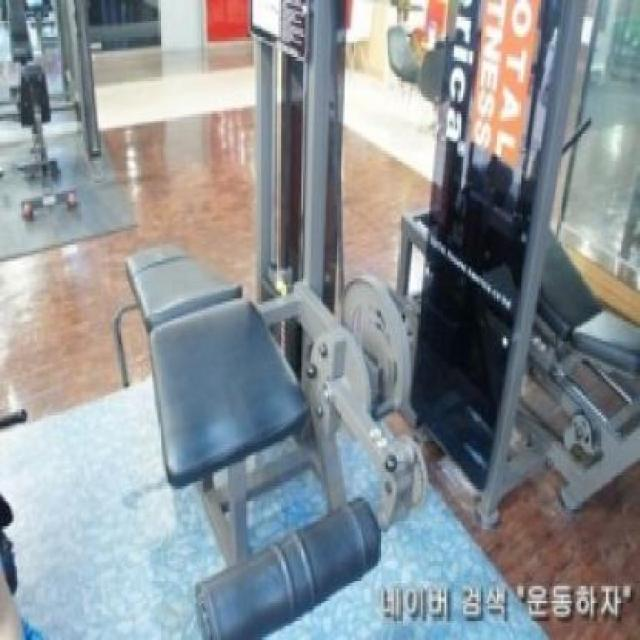reg curl machine: (109, 0, 434, 640)
